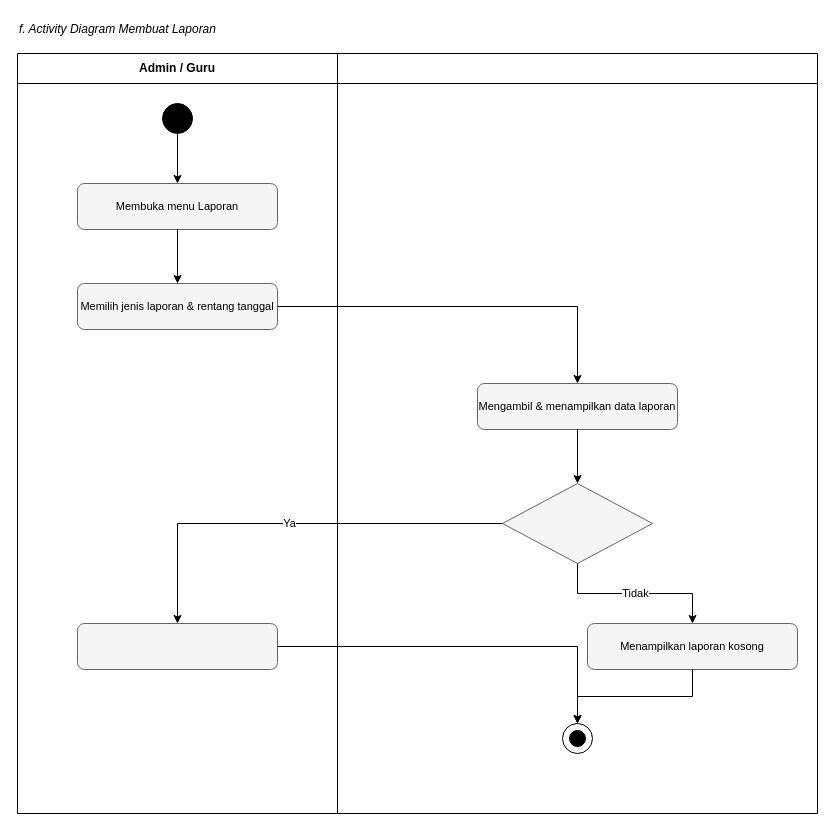
The diagram is 835 pixels wide and 831 high, and some of its shapes have lost their labels. Here are the shapes that lost their labels. From the top down, the box of each, then its label:
(336, 52, 818, 814): Sistem
(502, 482, 652, 564): Ada data?
(76, 622, 278, 670): Mengunduh / mencetak laporan
